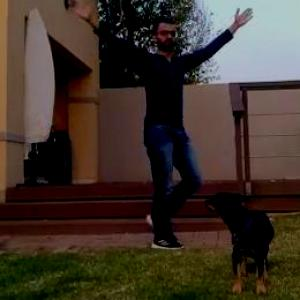takeoff: (62, 0, 258, 260)
